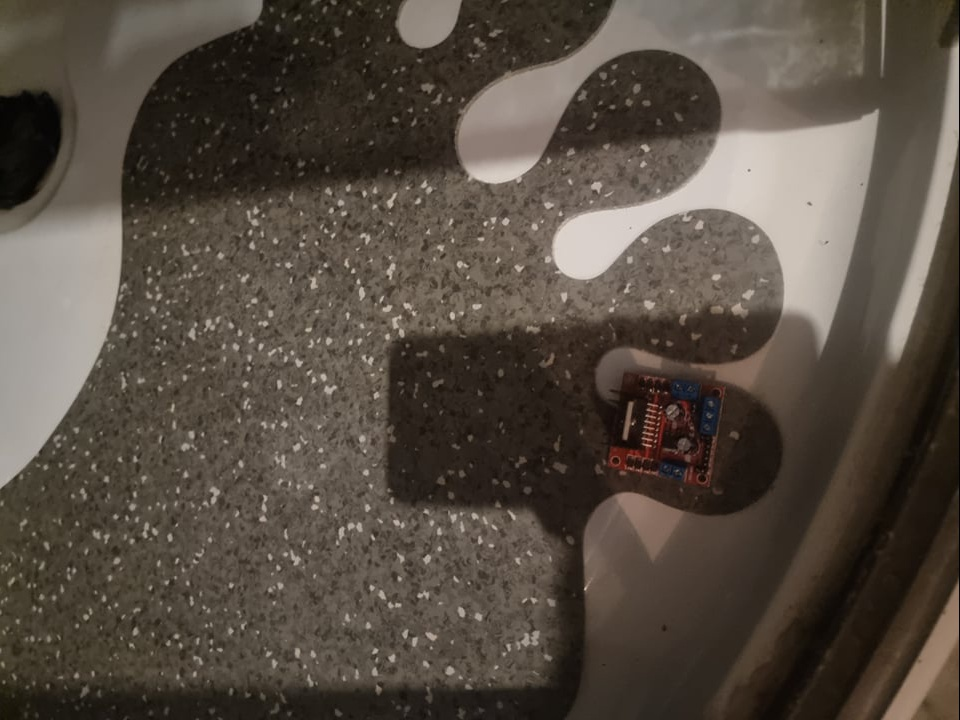MOTOR: (602, 370, 729, 491)
